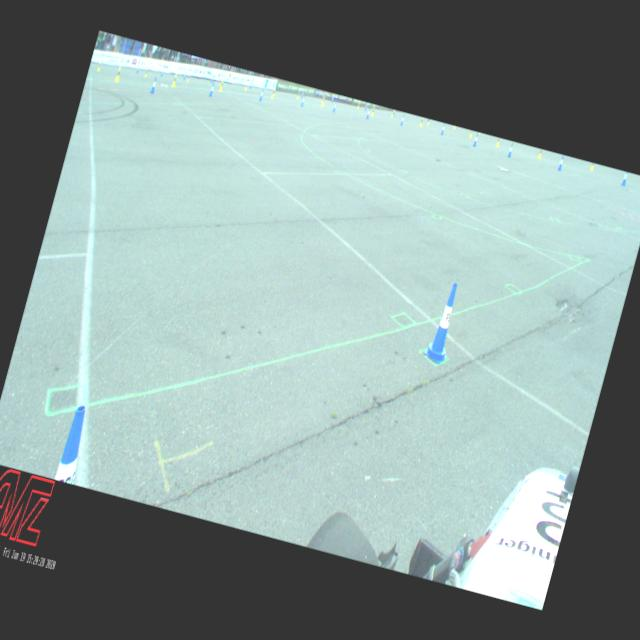blue_cone: (423, 280, 465, 364), (54, 404, 94, 484), (150, 78, 158, 94), (557, 154, 565, 170), (506, 142, 514, 157), (621, 171, 628, 186), (208, 82, 215, 96), (472, 133, 478, 146), (440, 122, 446, 134), (258, 88, 264, 100), (300, 95, 306, 106), (399, 114, 405, 125), (332, 101, 337, 112), (366, 108, 370, 119), (136, 64, 140, 73), (210, 74, 214, 83), (160, 66, 164, 75), (300, 90, 304, 98), (363, 104, 368, 110), (183, 72, 187, 78), (331, 96, 334, 102)
yellow_cone: (115, 66, 122, 81), (172, 74, 178, 86), (219, 80, 224, 91), (370, 106, 375, 116), (537, 148, 542, 158), (419, 117, 424, 126), (589, 162, 594, 171), (495, 138, 500, 146), (97, 61, 101, 70), (270, 89, 274, 98), (321, 96, 325, 105), (244, 82, 248, 90), (390, 108, 394, 116), (144, 68, 148, 76), (186, 74, 190, 82), (356, 102, 361, 108), (468, 130, 472, 137), (296, 92, 300, 98), (273, 88, 276, 96), (426, 118, 429, 124), (452, 125, 456, 129)
